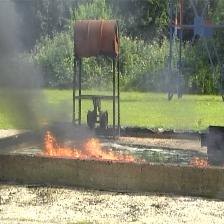fire: (40, 131, 146, 162)
